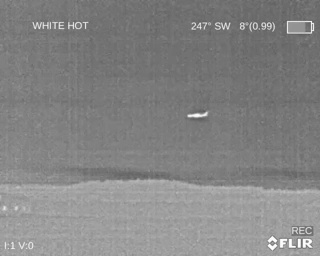AIRPLANE: (186, 110, 207, 118)
